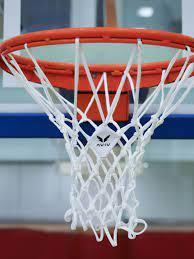rim: (0, 27, 194, 240)
